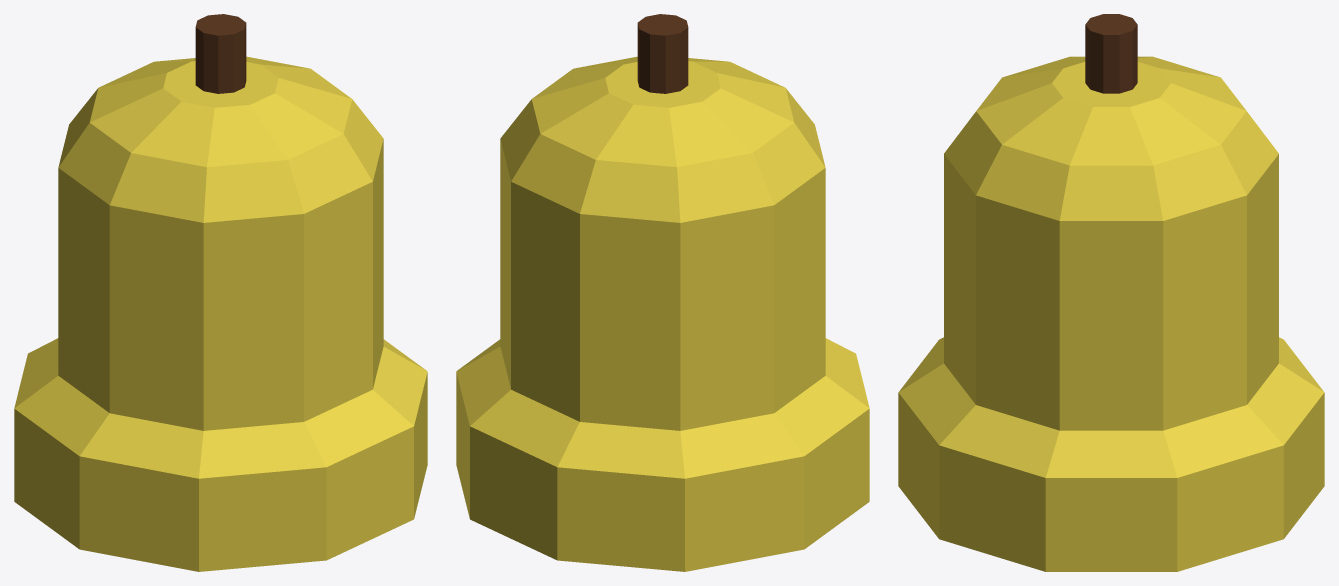
The model's file is bell.fbx.
The picture shows the model from 3 angles, left to right: view 1: azimuth 30°, elevation 25°; view 2: azimuth 150°, elevation 25°; view 3: azimuth 270°, elevation 25°; orthographic projection.
Parts seen in each view (by area): view 1: Cylinder, Cylinder.001; view 2: Cylinder, Cylinder.001; view 3: Cylinder, Cylinder.001.
Boxes of the visible parts, <box> form: Cylinder: <box>14,56,427,571</box>; Cylinder.001: <box>195,14,246,93</box>; Cylinder: <box>456,56,869,571</box>; Cylinder.001: <box>637,14,688,93</box>; Cylinder: <box>898,56,1324,571</box>; Cylinder.001: <box>1085,14,1137,93</box>.
Bounding box in the file's own units: 190 × 242 × 200.
